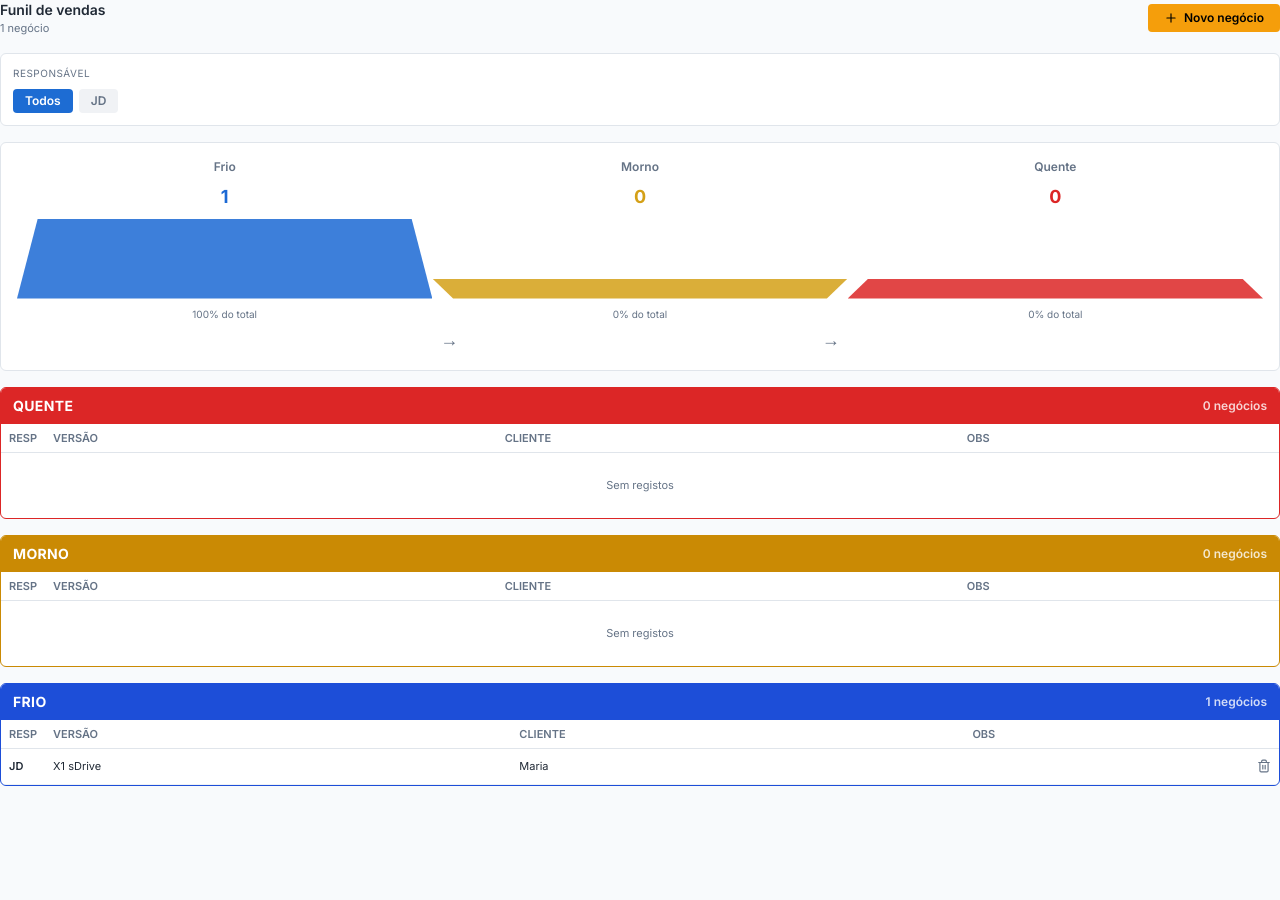
Test: Funil VU › com edição em Dados mostra "Novo negócio" e abre o editor como Frio
Click the button "Novo negócio" at (1214, 18), box [1148,4,1279,32]
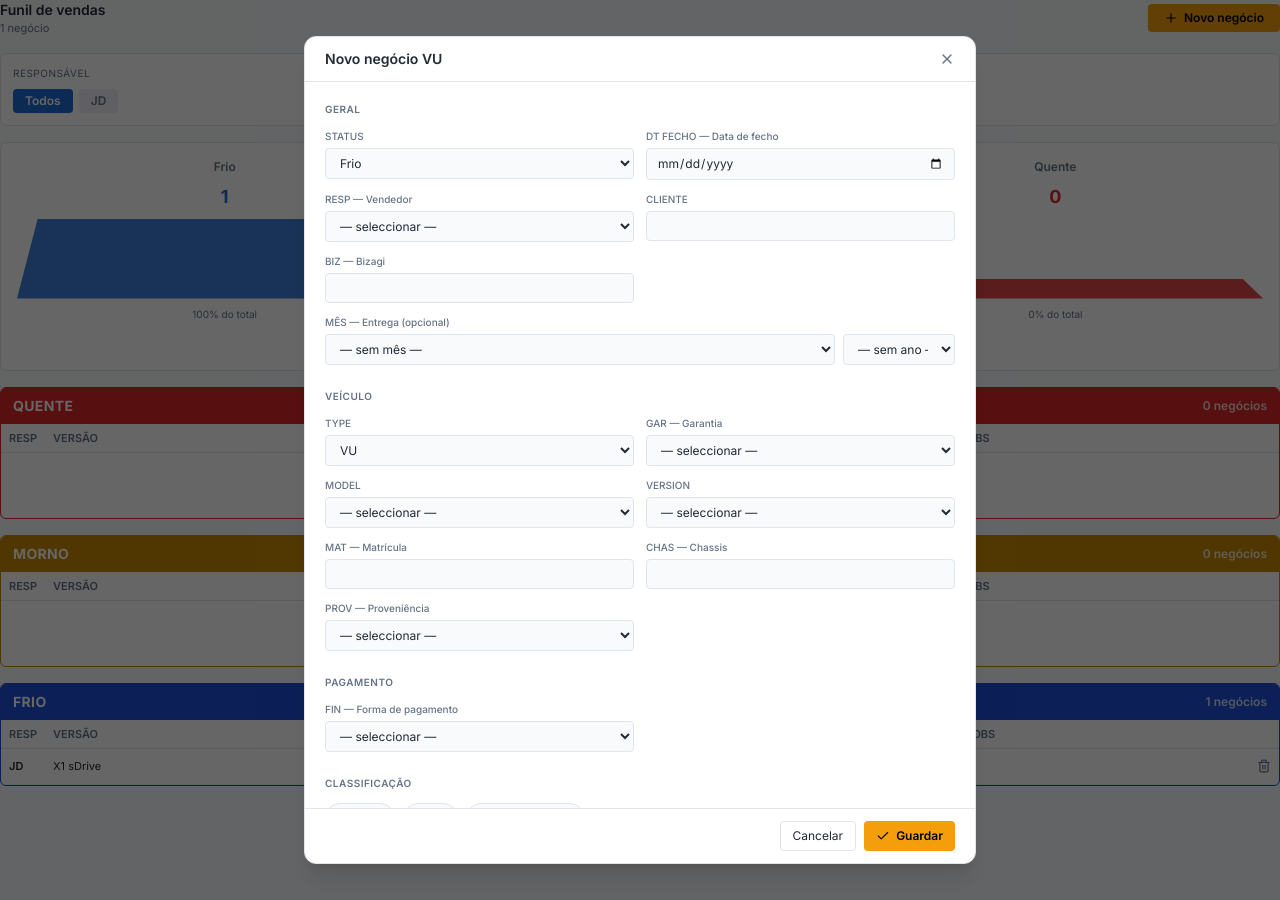
Now the dropdown labelled "STATUS" shows "Frio", box [325,148,634,179]
Now the dialog "Novo negócio VU" is shown
